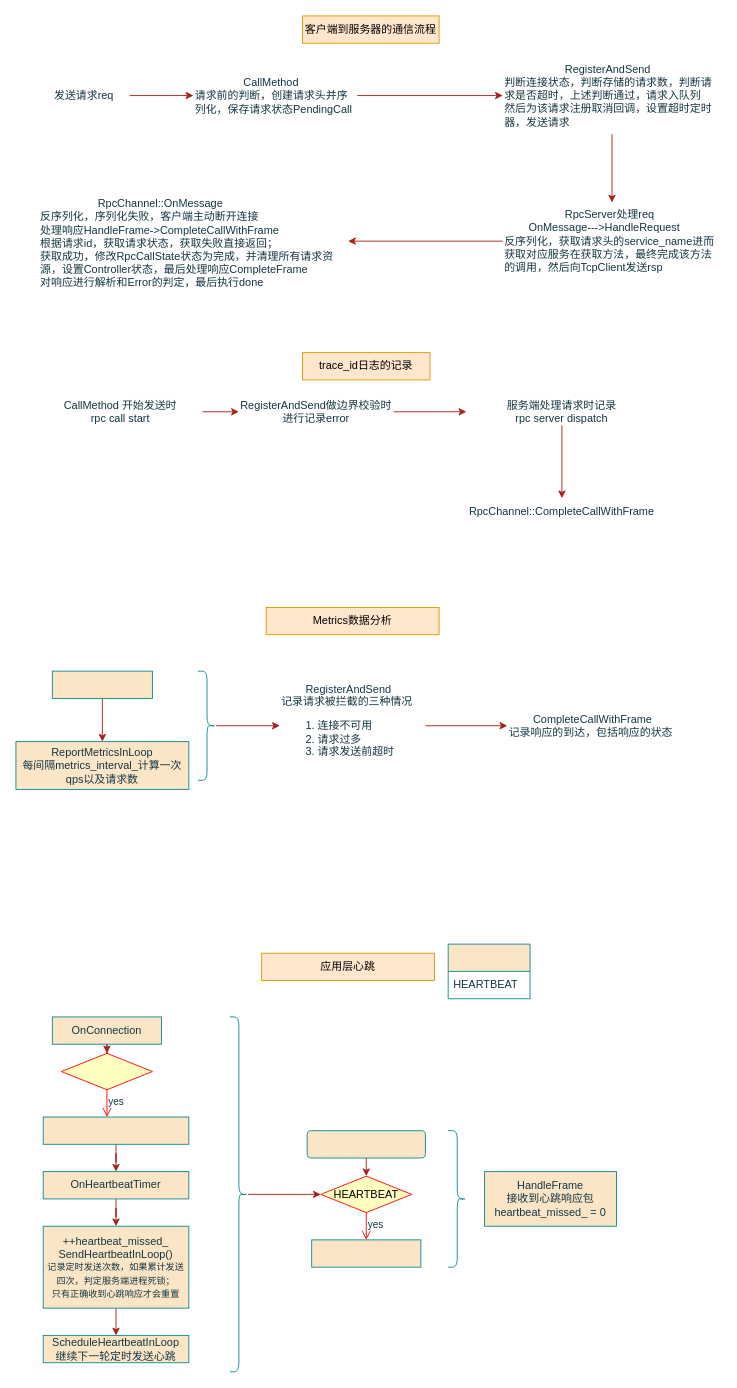
Image size: 737x1388. Some labels were removed from this diagram. The box of each missing label's shape, as (x1, y1, x2, y2) in pixels:
MessageType: (447, 943, 530, 999)
RpcServer::OnMessage: (306, 1130, 425, 1158)
ScheduleHeartbeatInLoop 开启定时任务: (42, 1116, 189, 1144)
SendHeartbeatEcho: (311, 1239, 421, 1267)
StartMetricsReport: (51, 670, 152, 698)
连接建立: (61, 1052, 152, 1090)
